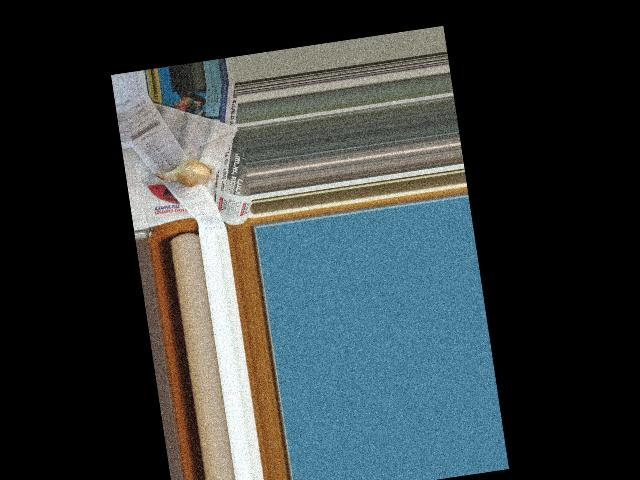onion: (160, 157, 212, 188)
